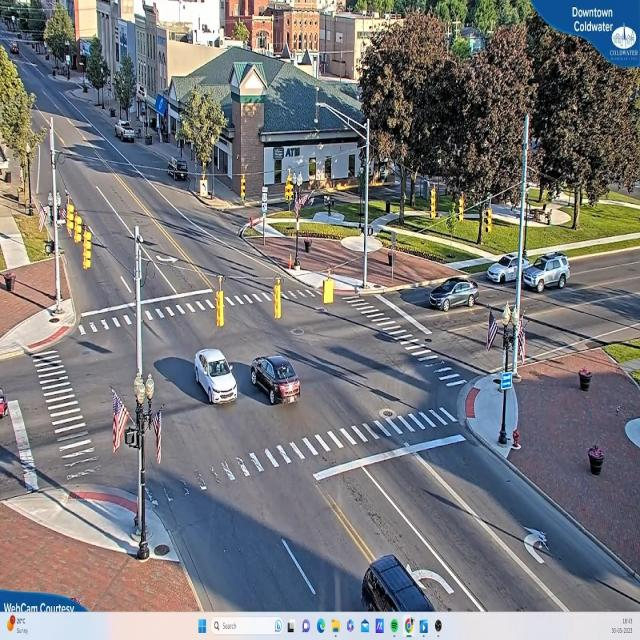car: (362, 554, 436, 612), (253, 355, 303, 405), (194, 349, 237, 405), (522, 254, 569, 294), (488, 253, 541, 285), (430, 279, 480, 310), (117, 121, 138, 142)
